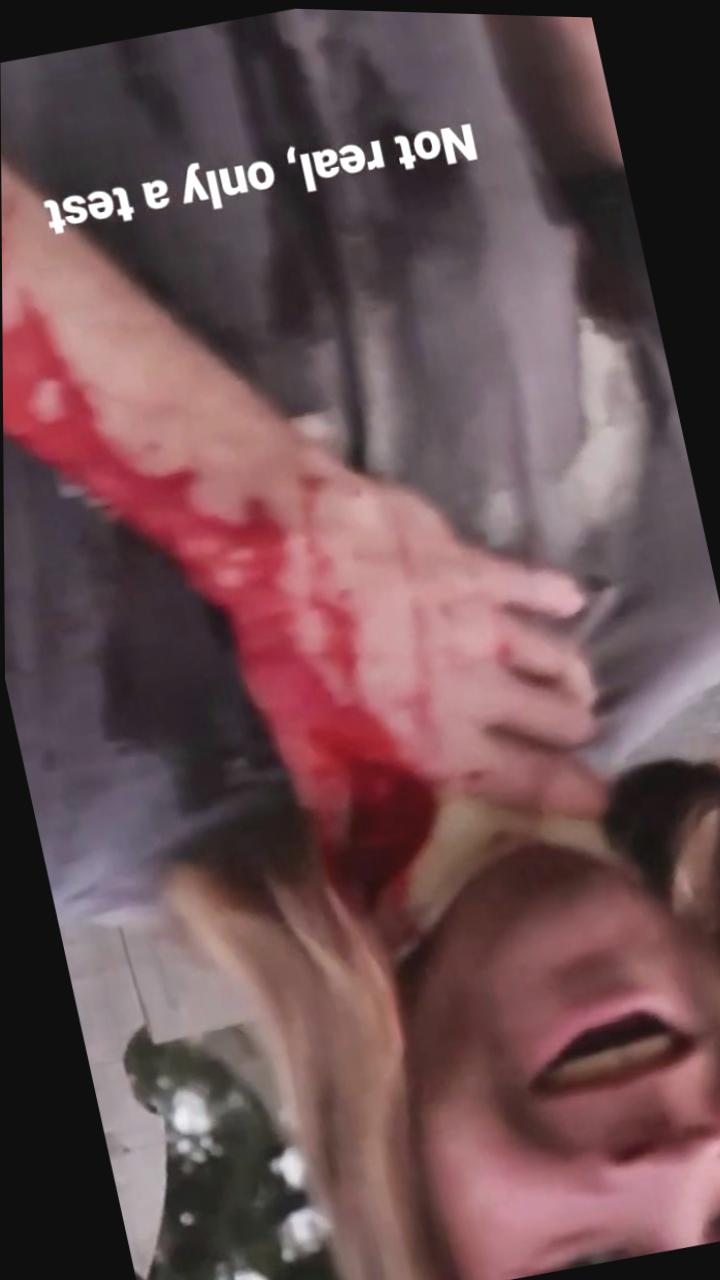Fire: (2, 311, 433, 942)
